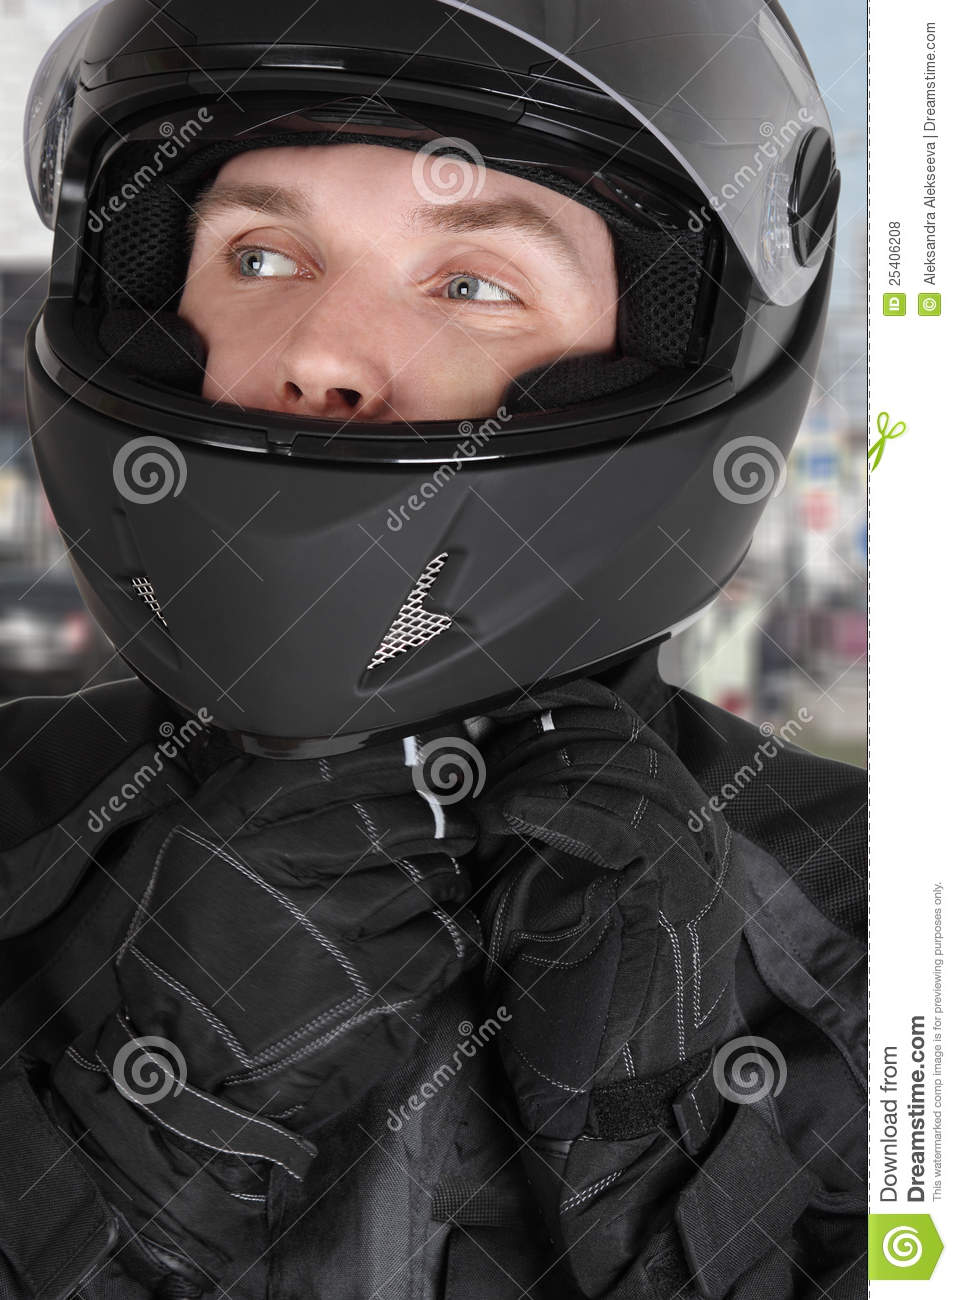helmet: (38, 29, 834, 733)
